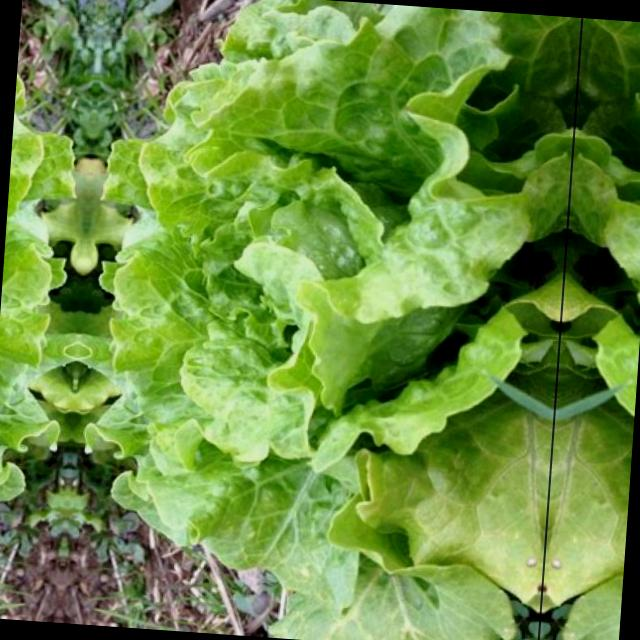healthy: (76, 0, 582, 640), (537, 17, 640, 640), (0, 0, 84, 621)
